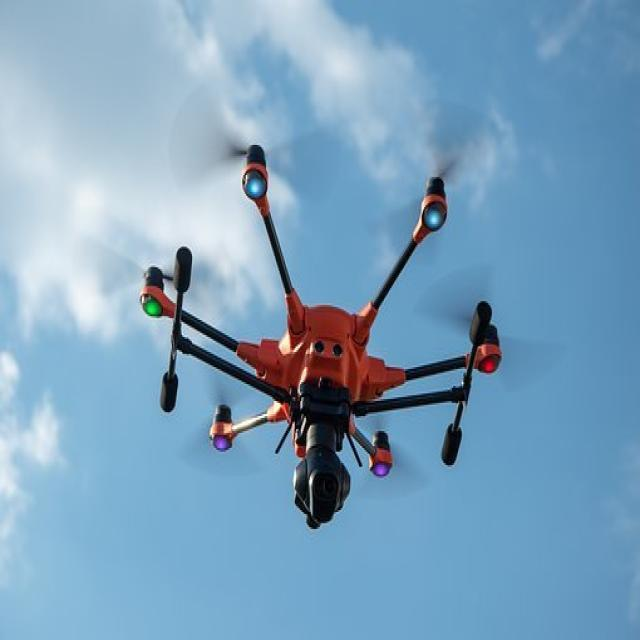drone: (92, 115, 530, 530)
